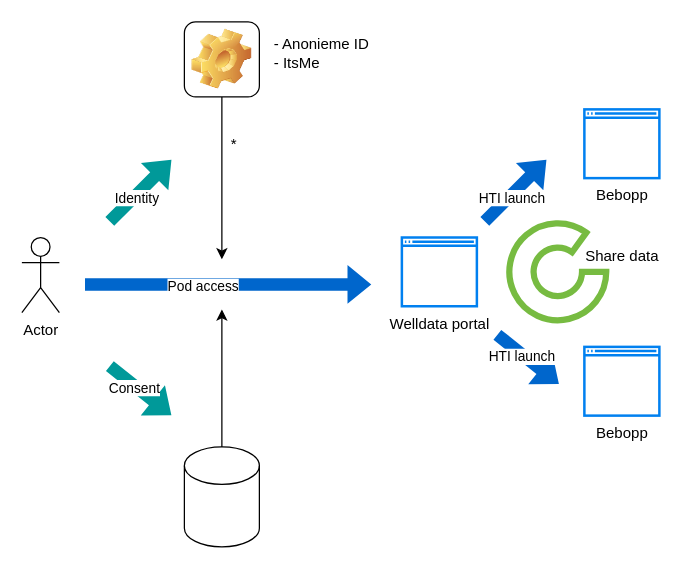
Some shapes in this 694 by 569 pixel diagram are drawn without their labels. Here are the shapes that lost their labels. From the top down, the box of each, then its label:
(183, 21, 259, 97): Identity Provider
(183, 446, 259, 547): POD
